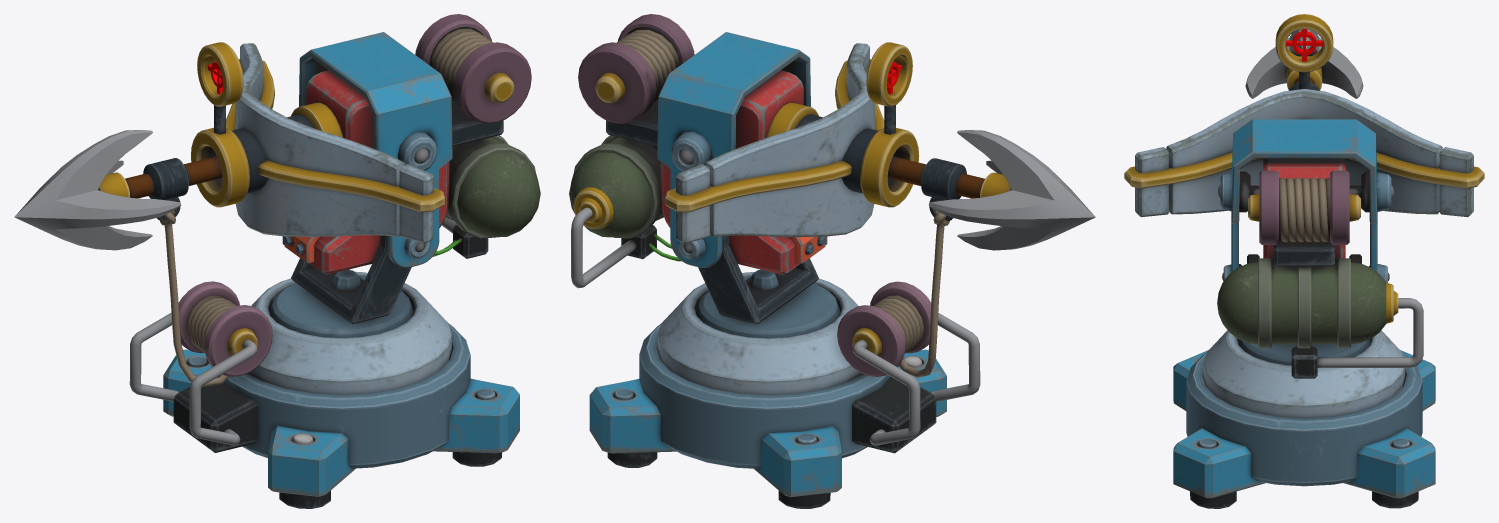
File: harpoon_turret_source.glb
The picture shows the model from 3 angles, left to right: view 1: azimuth 30°, elevation 25°; view 2: azimuth 150°, elevation 25°; view 3: azimuth 270°, elevation 25°; orthographic projection. The views are drawn at different scales.
Visible parts, largest first — view 1: Harpoon009, Harpoon001, Harpoon002, Harpoon010, Harpoon033, Harpoon017, Harpoon040, Harpoon020, Harpoon006, Harpoon019, Harpoon045, Harpoon029 (+18 smaller); view 2: Harpoon009, Harpoon001, Harpoon002, Harpoon010, Harpoon033, Harpoon017, Harpoon040, Harpoon020, Harpoon006, Harpoon019, Harpoon045, Harpoon029 (+18 smaller); view 3: Harpoon009, Harpoon001, Harpoon002, Harpoon033, Harpoon020, Harpoon010, Harpoon021, Harpoon038, Harpoon040, Harpoon012, Harpoon017, Harpoon028 (+8 smaller).
Part boxes in pixels (box(x1,y1,x2,y2)): Harpoon009: box(235, 43, 433, 243); Harpoon001: box(219, 323, 470, 468); Harpoon002: box(248, 271, 451, 394); Harpoon010: box(299, 32, 452, 267); Harpoon033: box(163, 349, 519, 496); Harpoon017: box(14, 130, 181, 250); Harpoon040: box(415, 14, 531, 123); Harpoon020: box(447, 137, 540, 237); Harpoon006: box(282, 70, 449, 274); Harpoon019: box(291, 235, 411, 323); Harpoon045: box(178, 281, 272, 376); Harpoon029: box(269, 276, 413, 337); Harpoon009: box(676, 43, 874, 243); Harpoon001: box(639, 323, 890, 468); Harpoon002: box(658, 272, 861, 395); Harpoon010: box(657, 32, 810, 267); Harpoon033: box(589, 349, 946, 497); Harpoon017: box(929, 130, 1095, 250); Harpoon040: box(578, 14, 694, 123); Harpoon020: box(569, 137, 662, 237); Harpoon006: box(660, 70, 827, 275); Harpoon019: box(698, 235, 818, 324); Harpoon045: box(837, 281, 931, 376); Harpoon029: box(696, 276, 840, 338); Harpoon009: box(1135, 89, 1473, 217); Harpoon001: box(1186, 352, 1422, 486); Harpoon002: box(1203, 330, 1405, 418); Harpoon033: box(1173, 350, 1435, 498); Harpoon020: box(1217, 262, 1398, 344); Harpoon010: box(1231, 119, 1377, 272); Harpoon021: box(1258, 258, 1350, 348); Harpoon038: box(1124, 152, 1484, 188); Harpoon040: box(1248, 170, 1360, 244); Harpoon012: box(1279, 177, 1329, 242); Harpoon017: box(1245, 29, 1363, 98); Harpoon028: box(1218, 171, 1393, 282).
Bounding box in the file's own units: 6.04 × 4.92 × 4.12.
1 material, 1 textured.
